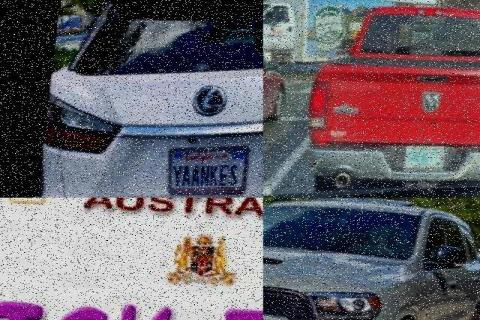LicensePlate: (0, 285, 263, 320), (160, 144, 250, 198), (400, 145, 443, 168)
